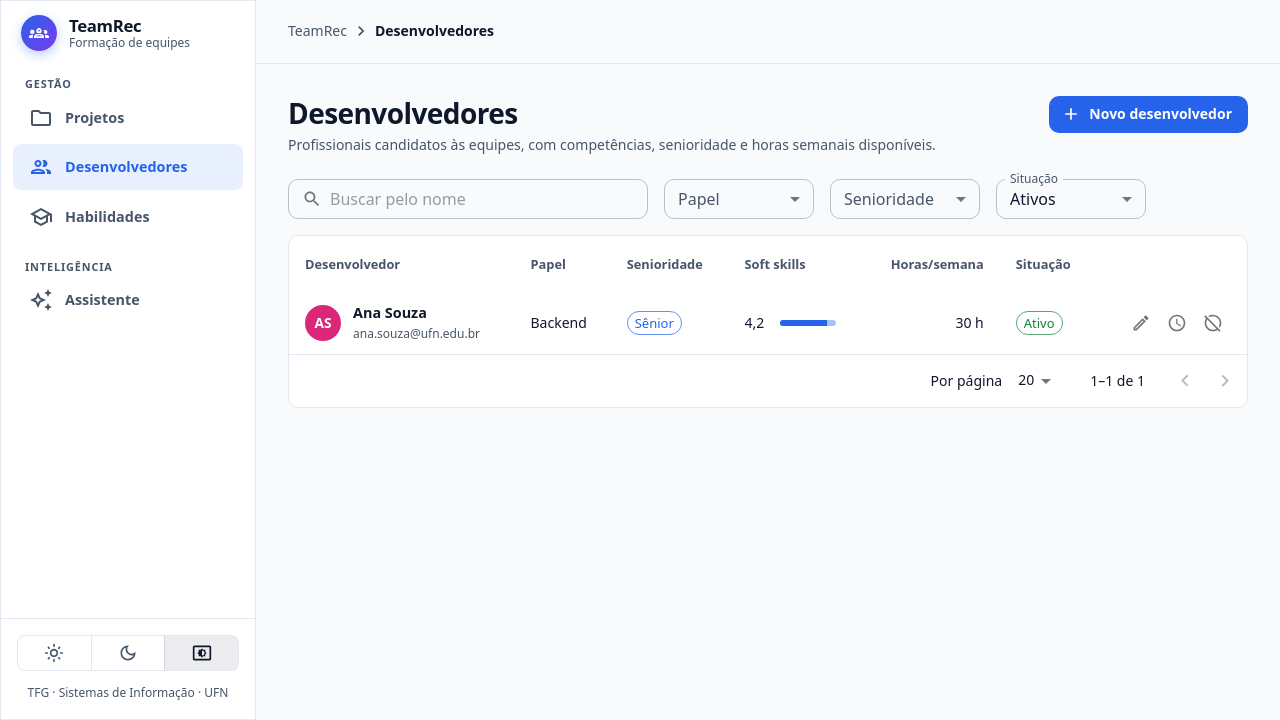
Test: pagina de desenvolvedores › mostra os inativos e permite reativar
This screenshot has width=1280, height=720.
Click the dropdown named "Situação".
click(1033, 198)  # box [1010,188,1056,210]
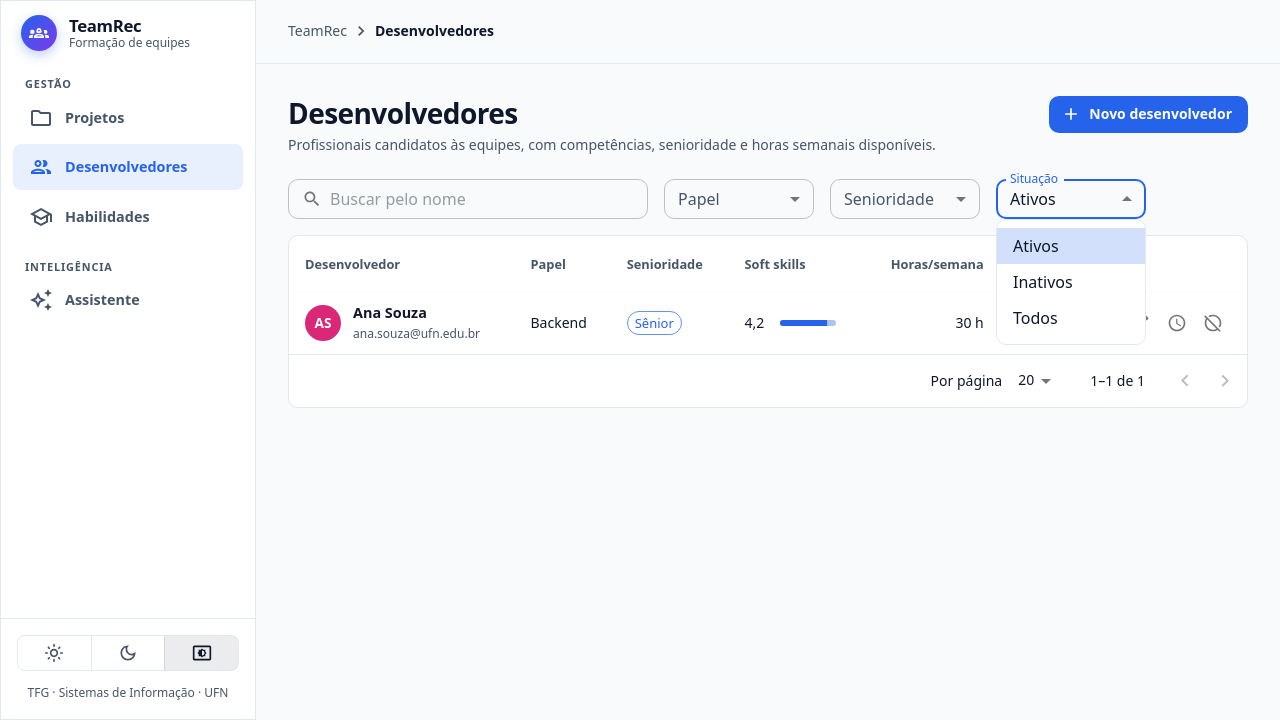
Click the option "Inativos".
click(1043, 282)  # box [1013,271,1073,293]
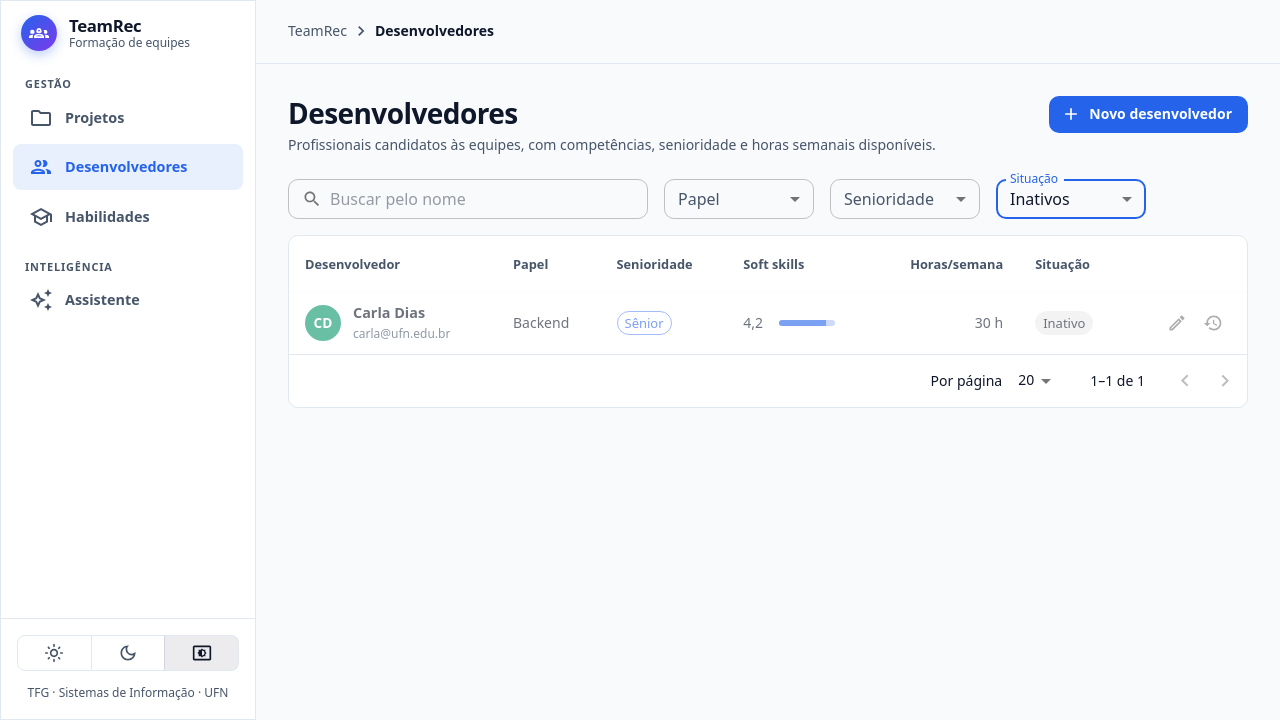
Click the button named "Reativar Carla Dias".
click(1213, 323)  # box [1195,305,1231,341]
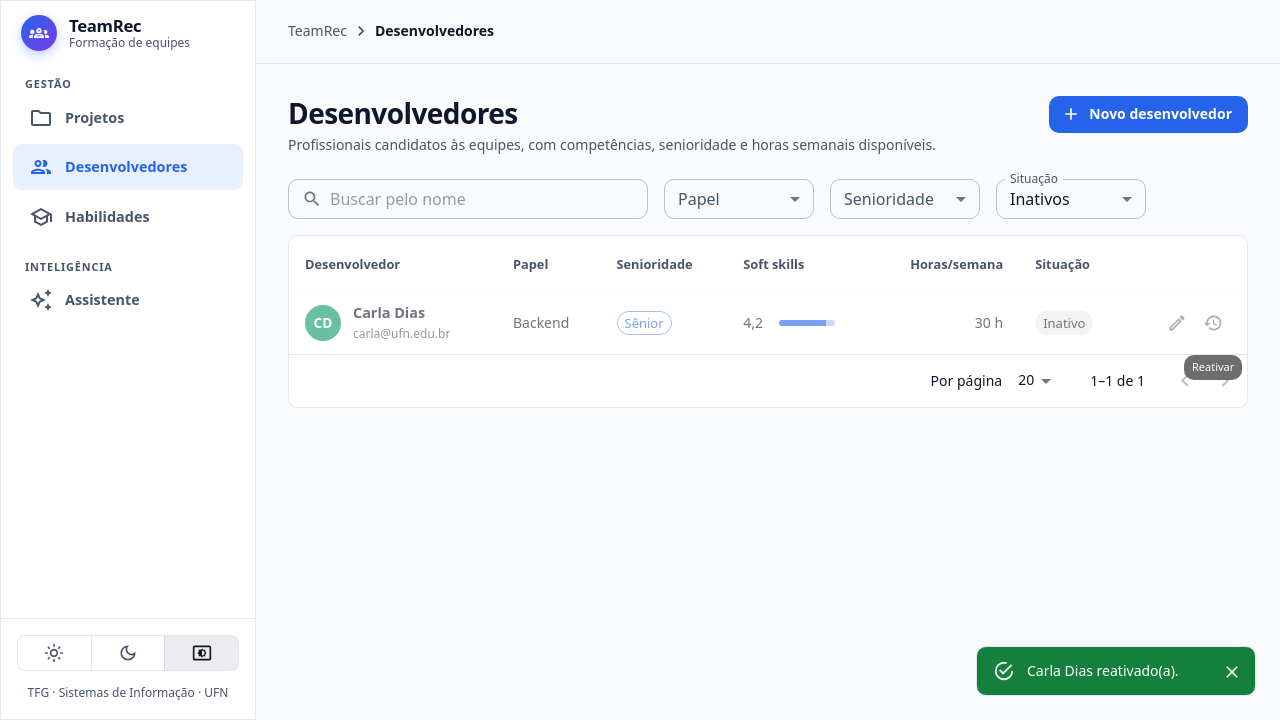
Expected: the text "Carla Dias reativado(a)." is shown, [1027,661,1179,680]
